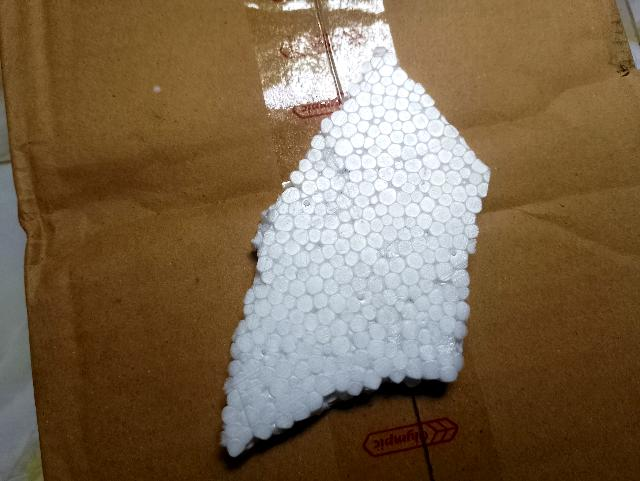cocksheet: (214, 65, 508, 458)
